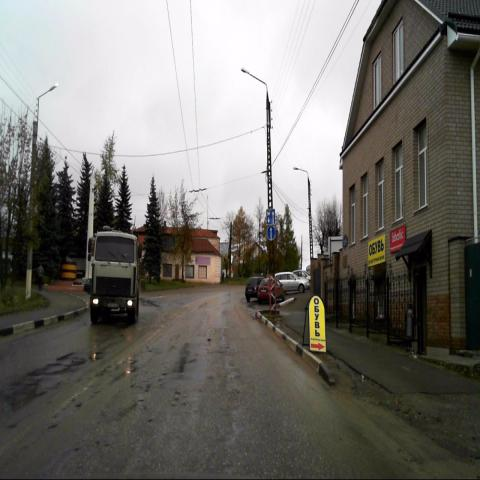4_1_1: (266, 225, 276, 241)
5_11: (265, 208, 276, 226)
